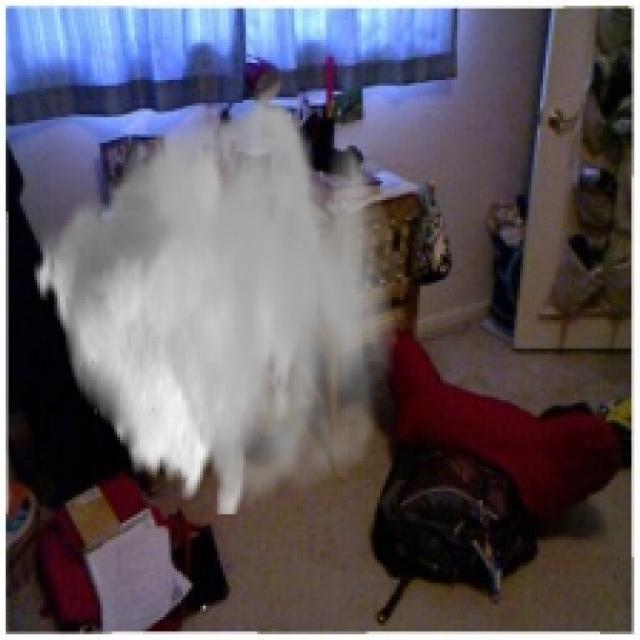smoke: (32, 92, 397, 514)
